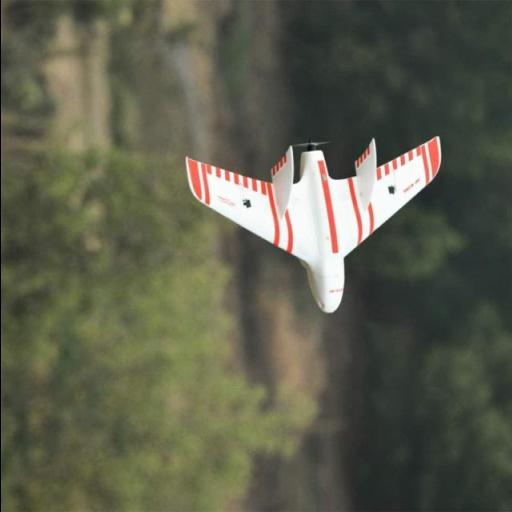uav: (188, 112, 446, 316)
